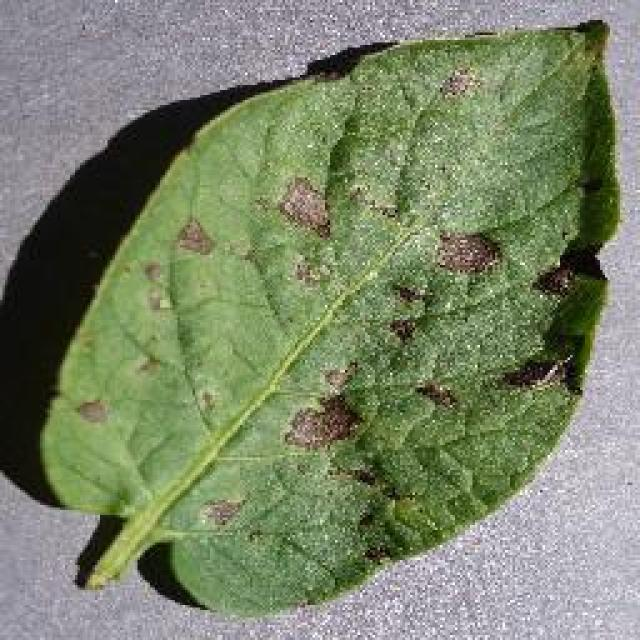early_blight: (33, 15, 625, 620)
